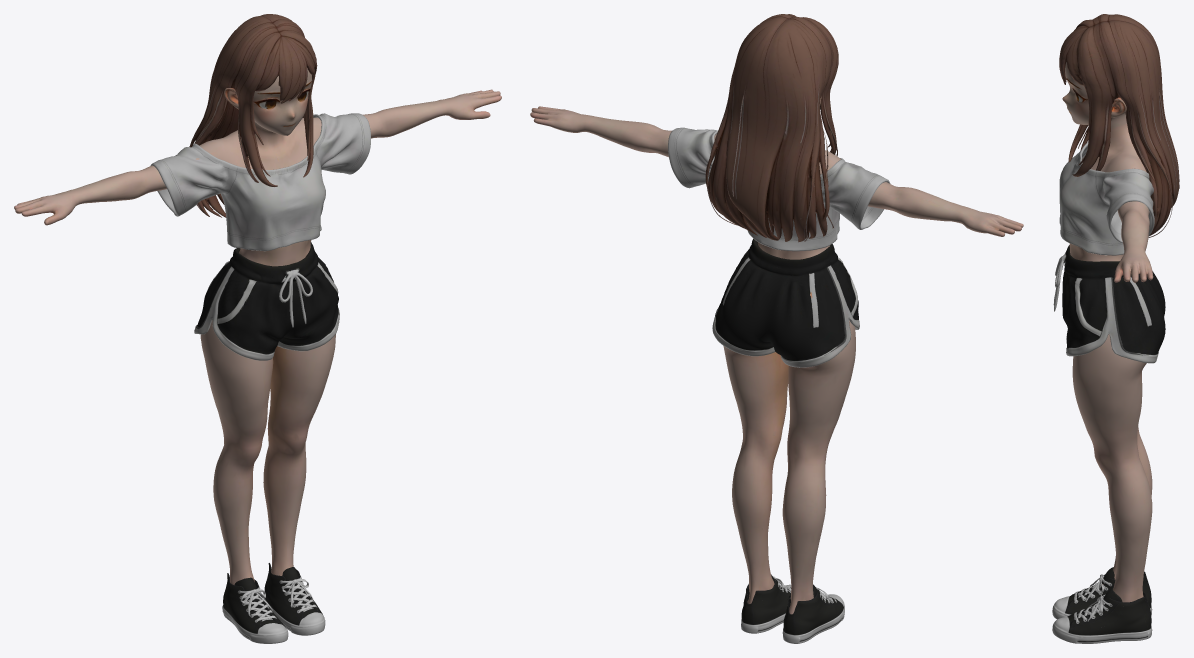
Rendered from anime_girl_optimized.glb.
3 renders of one model, left to right at view 1: azimuth 30°, elevation 25°; view 2: azimuth 150°, elevation 25°; view 3: azimuth 270°, elevation 25°, orthographic.
Parts seen in each view (by area): view 1: Object_10, Object_4, Object_6, Object_8, Object_13, Object_11; view 2: Object_10, Object_8, Object_6, Object_4, Object_13; view 3: Object_10, Object_8, Object_6, Object_4, Object_13, Object_11.
Boxes of the visible parts, bbox=[...] form: Object_10: bbox=[14, 89, 501, 584]; Object_4: bbox=[150, 113, 370, 251]; Object_6: bbox=[194, 242, 339, 360]; Object_8: bbox=[189, 14, 317, 217]; Object_13: bbox=[222, 563, 325, 643]; Object_11: bbox=[224, 68, 312, 135]; Object_10: bbox=[530, 106, 1023, 614]; Object_8: bbox=[705, 14, 838, 242]; Object_6: bbox=[712, 238, 859, 367]; Object_4: bbox=[668, 127, 890, 251]; Object_13: bbox=[741, 574, 844, 643]; Object_10: bbox=[1069, 125, 1153, 602]; Object_8: bbox=[1059, 14, 1179, 237]; Object_6: bbox=[1053, 245, 1165, 363]; Object_4: bbox=[1059, 142, 1154, 255]; Object_13: bbox=[1052, 567, 1152, 643]; Object_11: bbox=[1062, 62, 1127, 129].
Bounding box in the file's own units: 1.47 × 1.74 × 0.33.
Materials: 6 (6 with a texture image).
